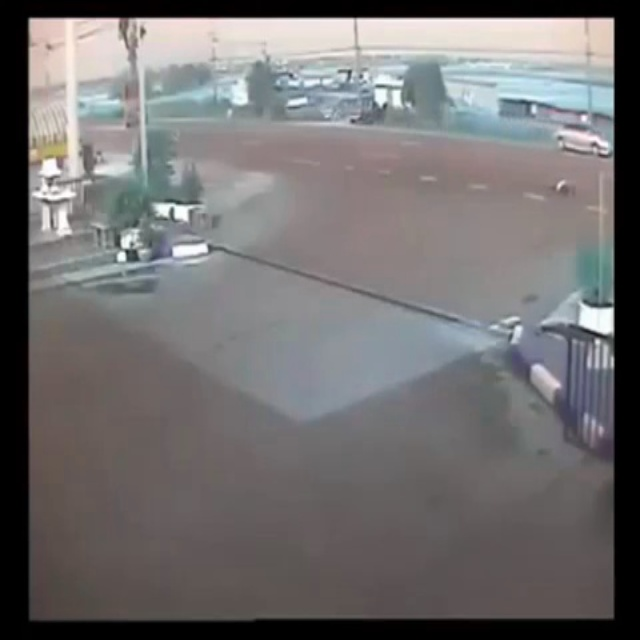acc: (547, 175, 578, 199)
